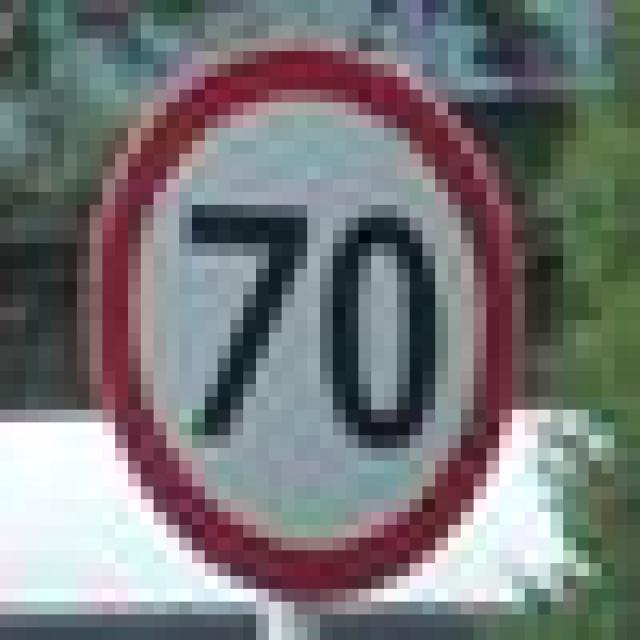SPEED_LIMIT_70: (77, 38, 512, 589)
